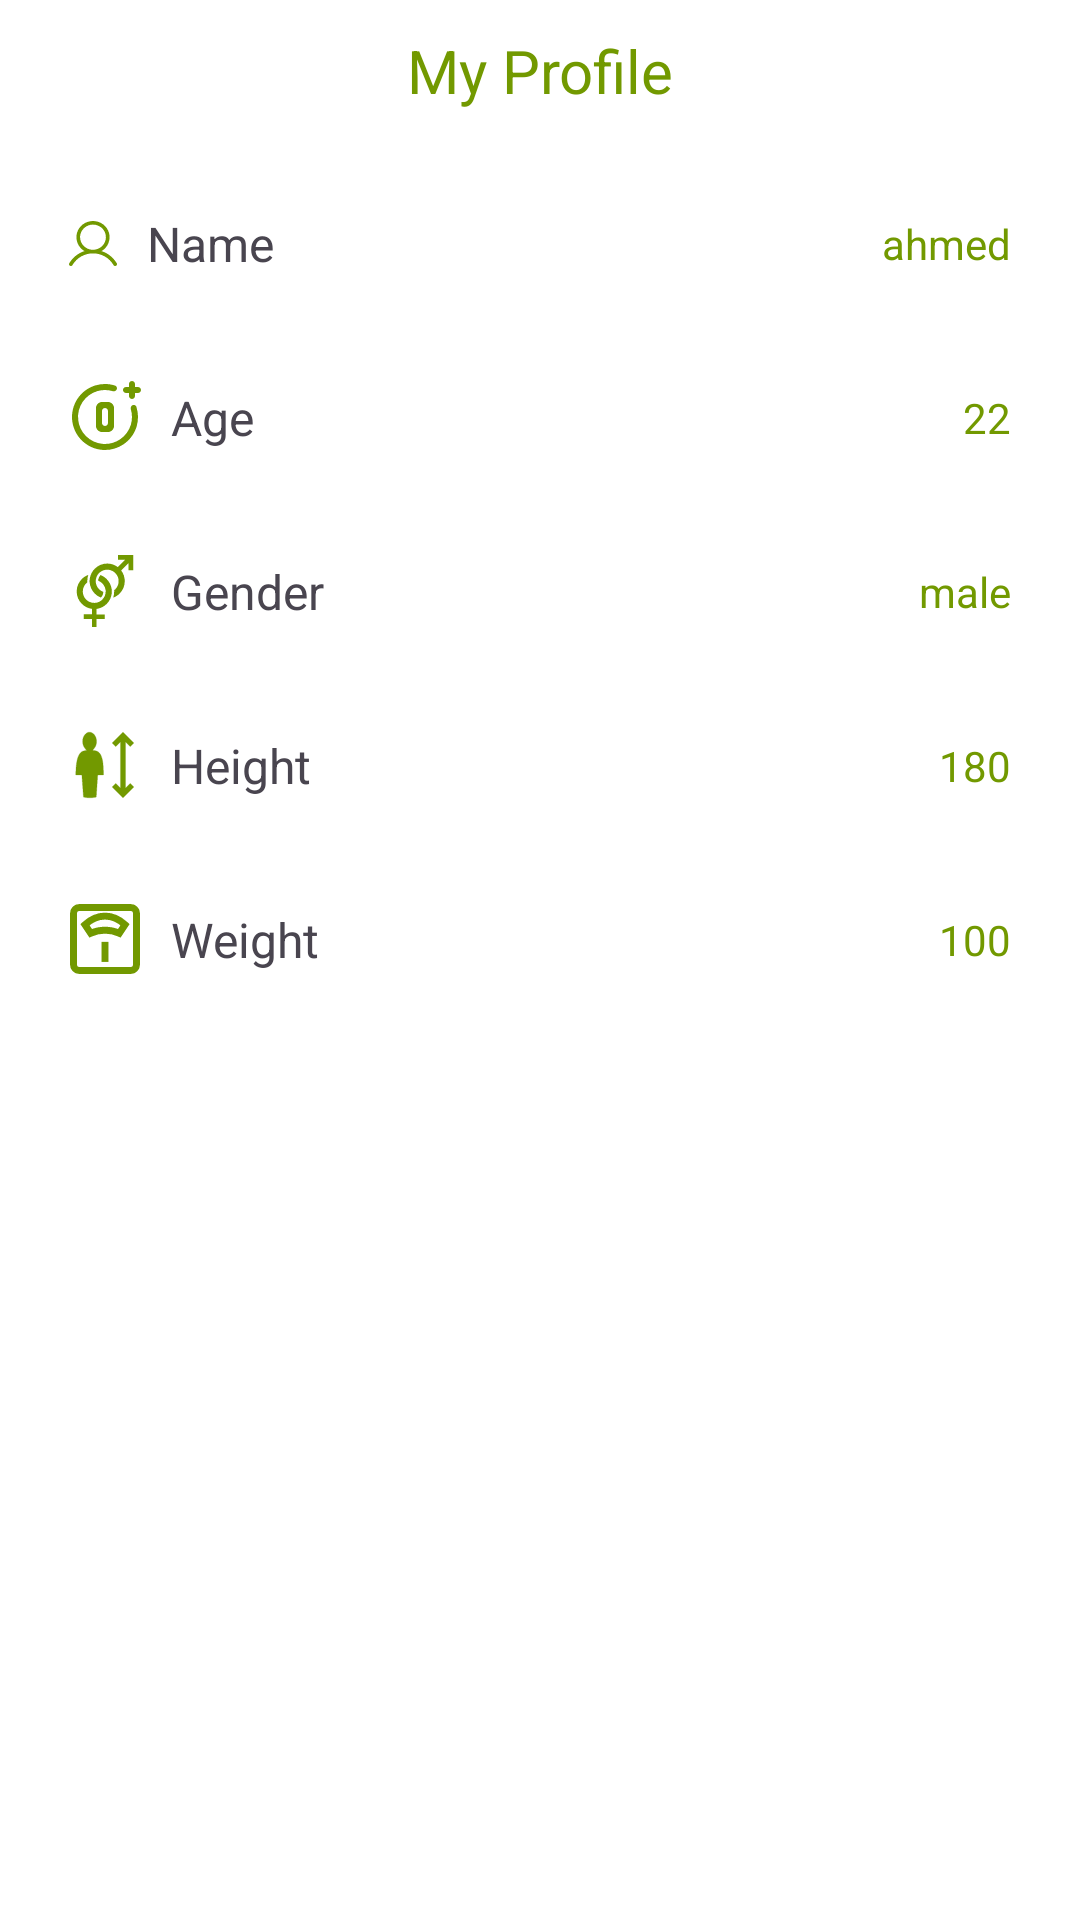

Screen size 1080px x 1920px. Icon name, then its box in pixels as box=[x1, y1, x2, y2]:
hight: box=[75, 732, 134, 798]
profile: box=[69, 221, 117, 266]
